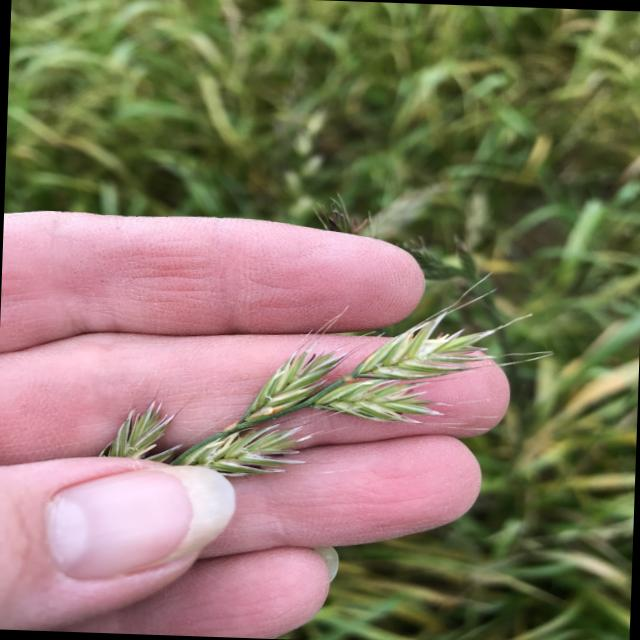Lolium: (94, 256, 555, 491)
